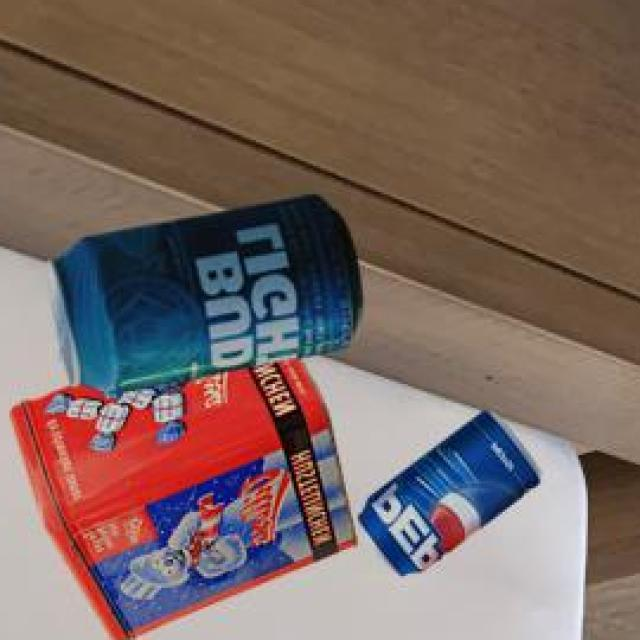logam: (6, 361, 352, 640), (44, 198, 359, 397), (354, 416, 535, 580)
